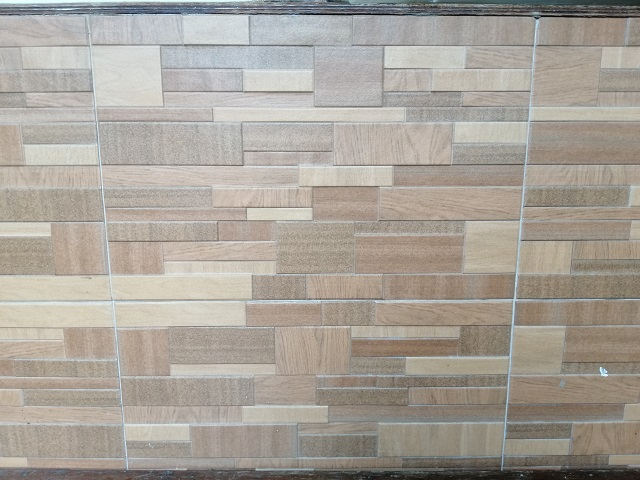wall: (1, 12, 640, 466)
